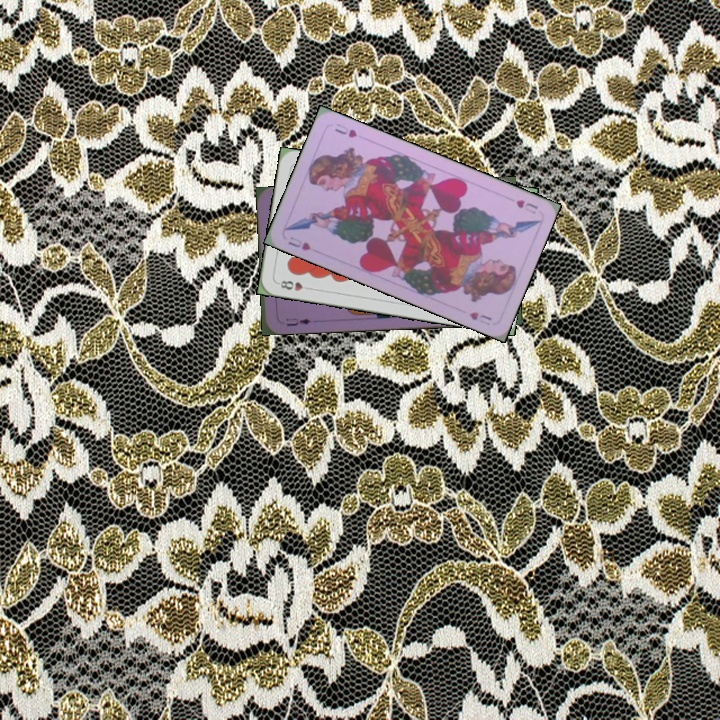EU: (282, 314, 313, 329)
H8: (274, 276, 314, 293)
HU: (284, 232, 314, 253), (512, 195, 541, 216)
